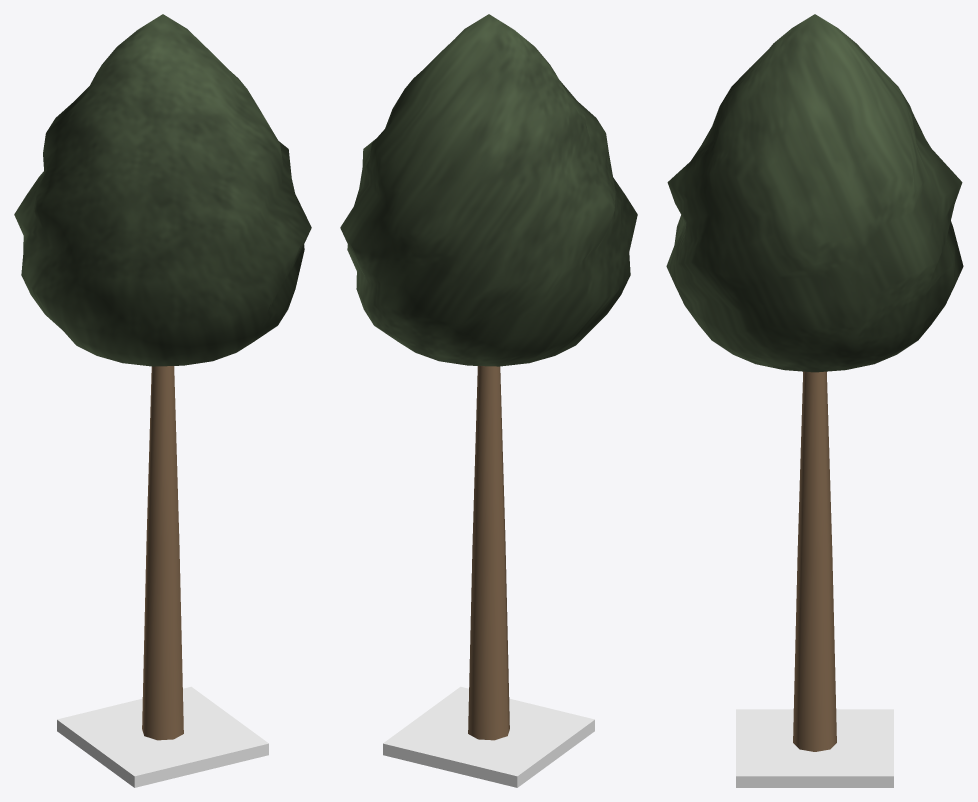
The model's file is tree.fbx.
3 views of the same model, side by side, from view 1: azimuth 30°, elevation 25°; view 2: azimuth 150°, elevation 25°; view 3: azimuth 270°, elevation 25° (orthographic).
Visible parts, largest first — view 1: tree.005; view 2: tree.005; view 3: tree.005.
Part boxes in pixels (<box>): tree.005: <box>14,14,311,787</box>; tree.005: <box>340,14,637,787</box>; tree.005: <box>666,14,963,787</box>.
Bounding box in the file's own units: 1.6 × 4.4 × 1.6.
